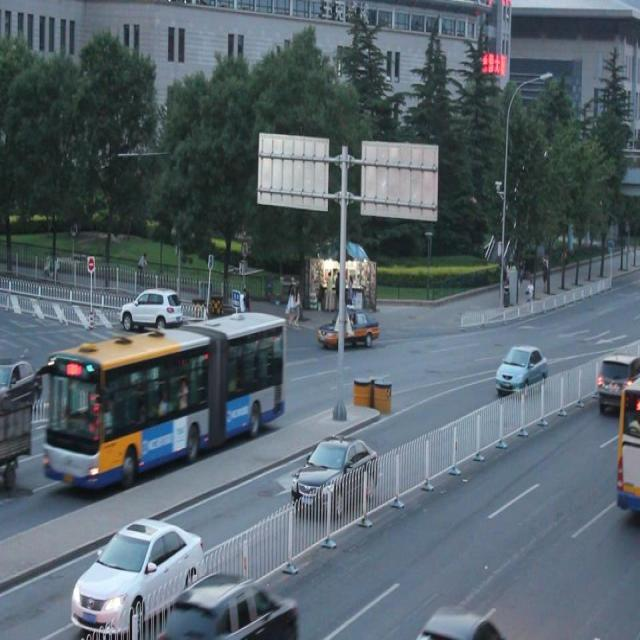car: (70, 514, 205, 630), (165, 570, 298, 640), (292, 434, 378, 512), (417, 603, 500, 640), (317, 304, 378, 350), (494, 341, 547, 393), (123, 288, 180, 333), (595, 352, 640, 408), (1, 356, 45, 408)
van: (47, 311, 284, 487), (614, 375, 640, 514)
